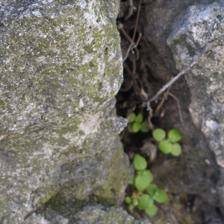Crack: (54, 4, 163, 185)
